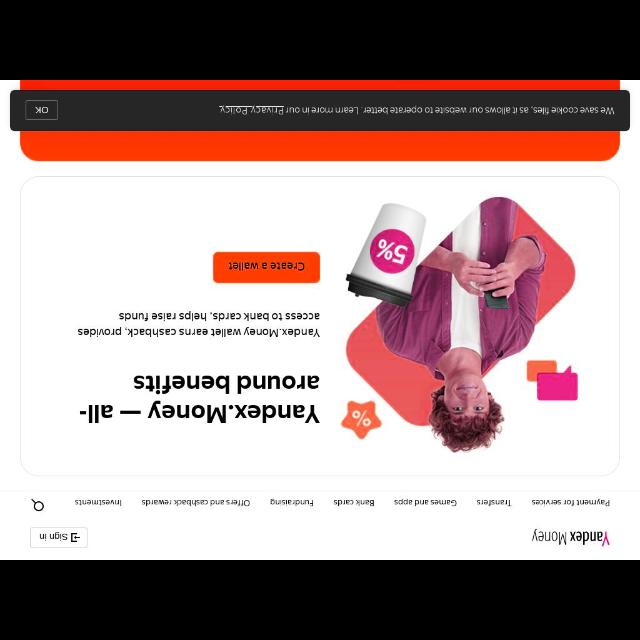icon: (31, 498, 45, 512), (70, 532, 80, 542)
image: (342, 195, 578, 453), (532, 527, 610, 547)
text: (78, 375, 320, 425), (78, 312, 318, 338), (218, 104, 614, 118), (228, 260, 306, 272), (142, 498, 250, 506), (531, 497, 611, 507), (268, 496, 314, 508), (394, 498, 458, 506), (76, 498, 122, 506), (335, 498, 375, 506), (476, 498, 512, 506), (39, 532, 67, 542), (34, 106, 48, 114)
textbutton: (213, 254, 319, 282), (31, 528, 85, 548), (28, 101, 56, 119)
